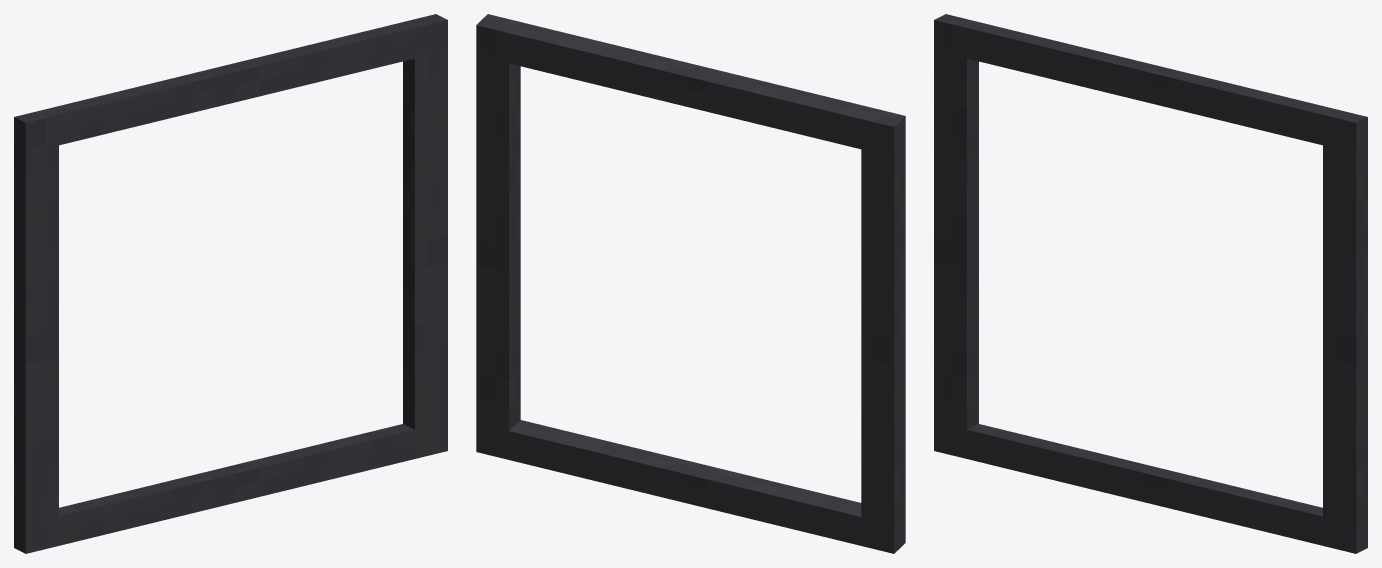
Rendered from airport_jet_bridge_slope_8_6_south.obj.
The picture shows the model from 3 angles, left to right: view 1: azimuth 30°, elevation 25°; view 2: azimuth 150°, elevation 25°; view 3: azimuth 330°, elevation 25°; orthographic projection.
Visible parts, largest first — view 1: airport_jet_bridge_slope_8_6_south; view 2: airport_jet_bridge_slope_8_6_south; view 3: airport_jet_bridge_slope_8_6_south.
Part boxes in pixels (bbox=[...]): airport_jet_bridge_slope_8_6_south: bbox=[14, 14, 447, 553]; airport_jet_bridge_slope_8_6_south: bbox=[476, 14, 905, 553]; airport_jet_bridge_slope_8_6_south: bbox=[934, 14, 1367, 553].
Bounding box in the file's own units: 2.08 × 2.04 × 0.1.
